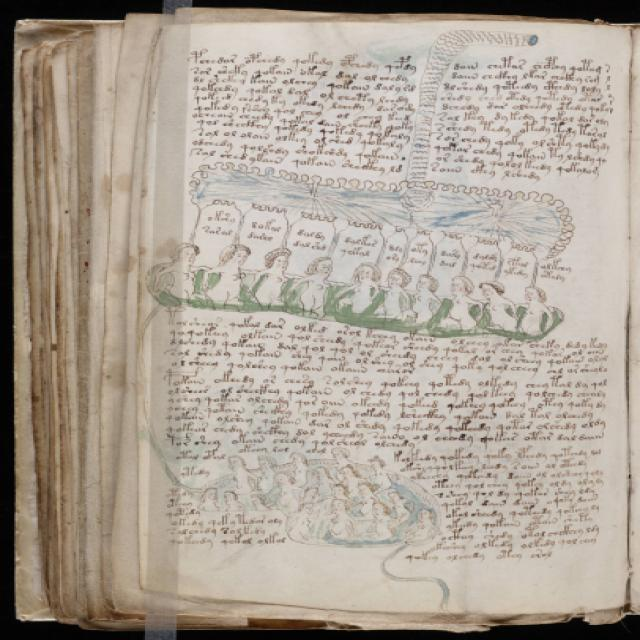people: (148, 237, 560, 343), (194, 445, 443, 549)
person: (202, 242, 255, 311), (152, 240, 206, 305), (247, 246, 297, 307), (333, 261, 383, 315), (440, 273, 485, 332), (292, 257, 336, 314), (518, 280, 556, 338), (478, 279, 517, 334), (373, 269, 413, 321), (411, 270, 443, 327)
